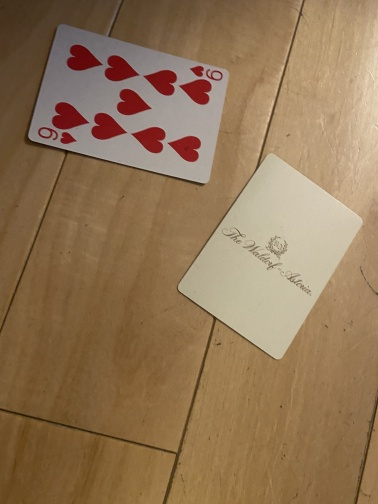nine: (25, 23, 230, 187)
